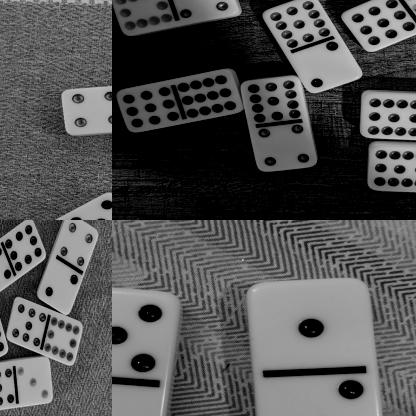pip-1: (245, 278, 377, 370)
pip-10: (112, 0, 172, 36), (43, 315, 82, 367)
pip-11: (260, 0, 329, 47), (239, 76, 302, 122), (359, 91, 416, 139), (367, 142, 416, 191)
pip-12: (176, 69, 237, 118)
pip-2: (252, 370, 384, 416), (294, 42, 362, 93), (38, 259, 78, 313)
pip-3: (15, 356, 54, 404)
pip-4: (248, 122, 317, 172), (59, 87, 112, 134), (59, 220, 97, 264), (170, 0, 238, 20)
pip-5: (112, 286, 179, 380), (68, 191, 112, 220), (0, 245, 10, 298)
pip-7: (5, 294, 46, 348), (0, 363, 15, 411)
pip-8: (5, 220, 45, 270)
pip-9: (340, 0, 413, 51), (114, 86, 178, 133)
